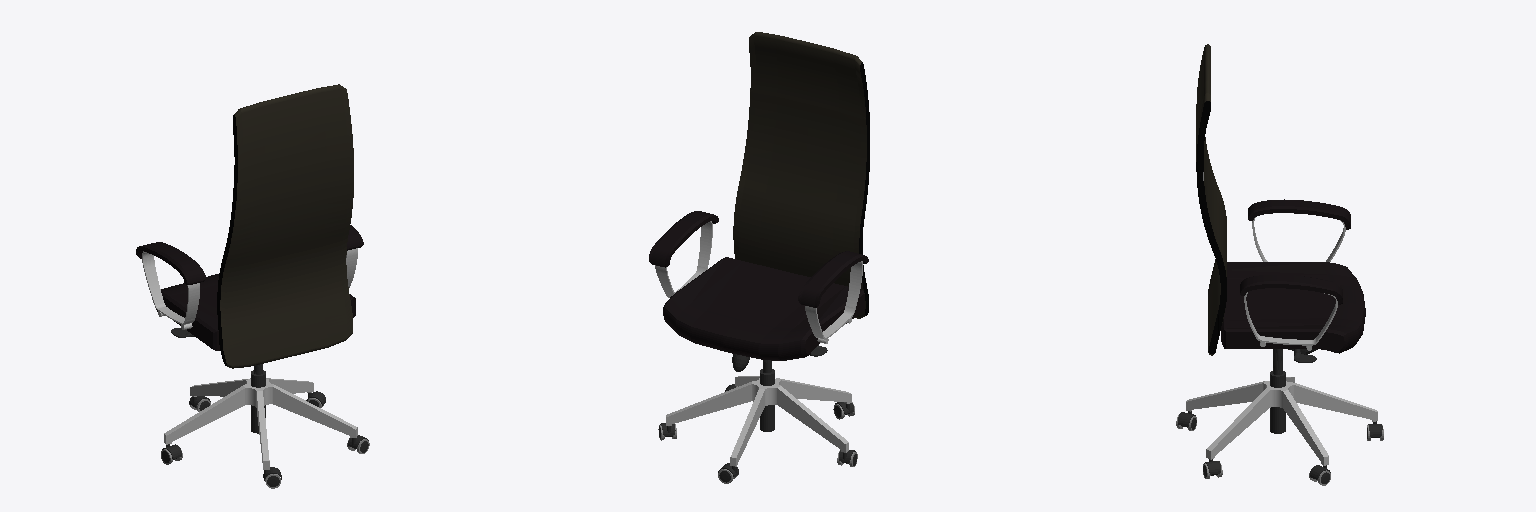
3 renders of one model, left to right at view 1: azimuth 30°, elevation 25°; view 2: azimuth 150°, elevation 25°; view 3: azimuth 270°, elevation 25°, orthographic.
Visible parts, largest first — view 1: Mesh1 Group1 Model, Mesh3 Group3 Model, Mesh6 Group6 Model, Mesh12 Group10 Armrest2 Model, Mesh13 Group11 Armrest2 Model; view 2: Mesh1 Group1 Model, Mesh6 Group6 Model, Mesh3 Group3 Model, Mesh13 Group11 Armrest2 Model, Mesh9 Group9 Armrest1 Model, Mesh12 Group10 Armrest2 Model, Mesh8 Group8 Armrest1 Model, Mesh2 Group2 Model; view 3: Mesh6 Group6 Model, Mesh3 Group3 Model, Mesh1 Group1 Model, Mesh9 Group9 Armrest1 Model, Mesh13 Group11 Armrest2 Model, Mesh2 Group2 Model, Mesh8 Group8 Armrest1 Model.
Part boxes in pixels (x1,y1,x2,y2): Mesh1 Group1 Model: (217, 84, 353, 368); Mesh3 Group3 Model: (164, 378, 357, 469); Mesh6 Group6 Model: (156, 274, 355, 350); Mesh12 Group10 Armrest2 Model: (142, 251, 199, 324); Mesh13 Group11 Armrest2 Model: (136, 242, 205, 284); Mesh1 Group1 Model: (733, 32, 869, 318); Mesh6 Group6 Model: (663, 257, 864, 360); Mesh3 Group3 Model: (666, 376, 851, 466); Mesh13 Group11 Armrest2 Model: (798, 251, 868, 307); Mesh9 Group9 Armrest1 Model: (649, 211, 718, 267); Mesh12 Group10 Armrest2 Model: (805, 261, 862, 339); Mesh8 Group8 Armrest1 Model: (655, 221, 712, 297); Mesh2 Group2 Model: (760, 360, 774, 431); Mesh6 Group6 Model: (1221, 262, 1365, 353); Mesh3 Group3 Model: (1186, 377, 1377, 465); Mesh1 Group1 Model: (1196, 44, 1226, 355); Mesh9 Group9 Armrest1 Model: (1240, 274, 1342, 304); Mesh13 Group11 Armrest2 Model: (1248, 199, 1350, 229); Mesh2 Group2 Model: (1270, 349, 1285, 433); Mesh8 Group8 Armrest1 Model: (1244, 292, 1337, 345).
Bounding box in the file's own units: 0.4475 × 0.8962 × 0.4483.